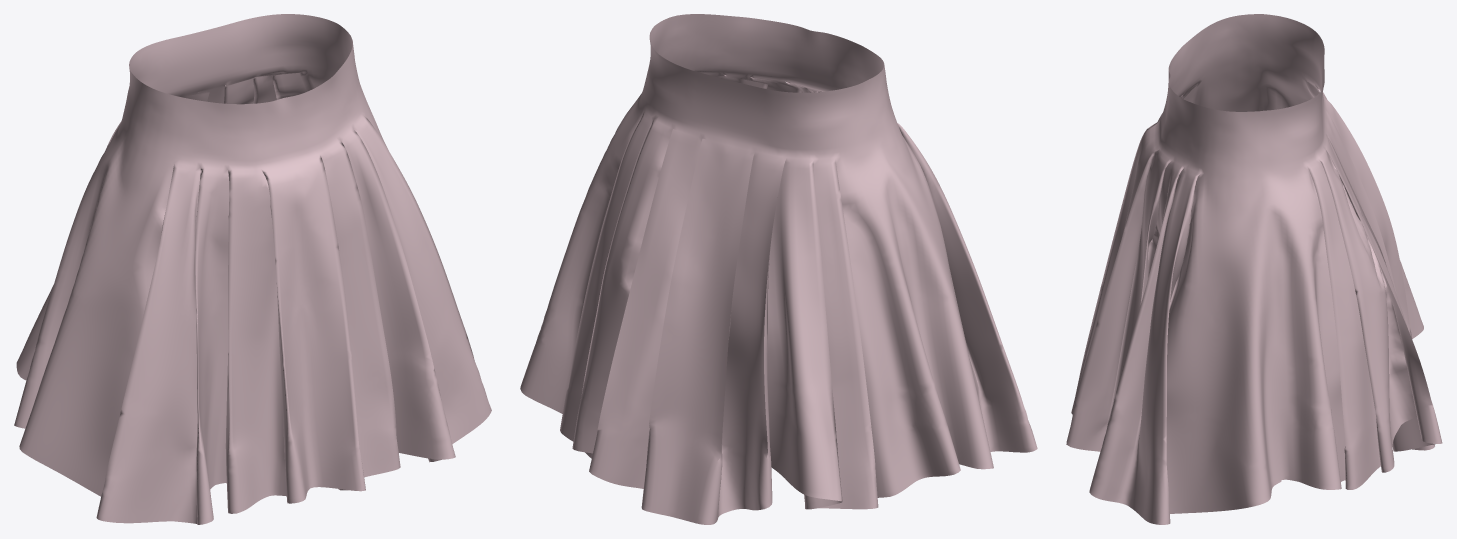
The model's file is Skirt.glb.
The picture shows the model from 3 angles, left to right: view 1: azimuth 30°, elevation 25°; view 2: azimuth 150°, elevation 25°; view 3: azimuth 270°, elevation 25°; orthographic projection. The views are drawn at different scales.
Visible parts, largest first — view 1: skirt_full.glb; view 2: skirt_full.glb; view 3: skirt_full.glb.
Part boxes in pixels (left/top/right/bottom): skirt_full.glb: left=14, top=14, right=491, bottom=524; skirt_full.glb: left=520, top=14, right=1037, bottom=524; skirt_full.glb: left=1066, top=14, right=1442, bottom=524.
Size of the model in its own units: 49.29 by 43.27 by 37.73.
